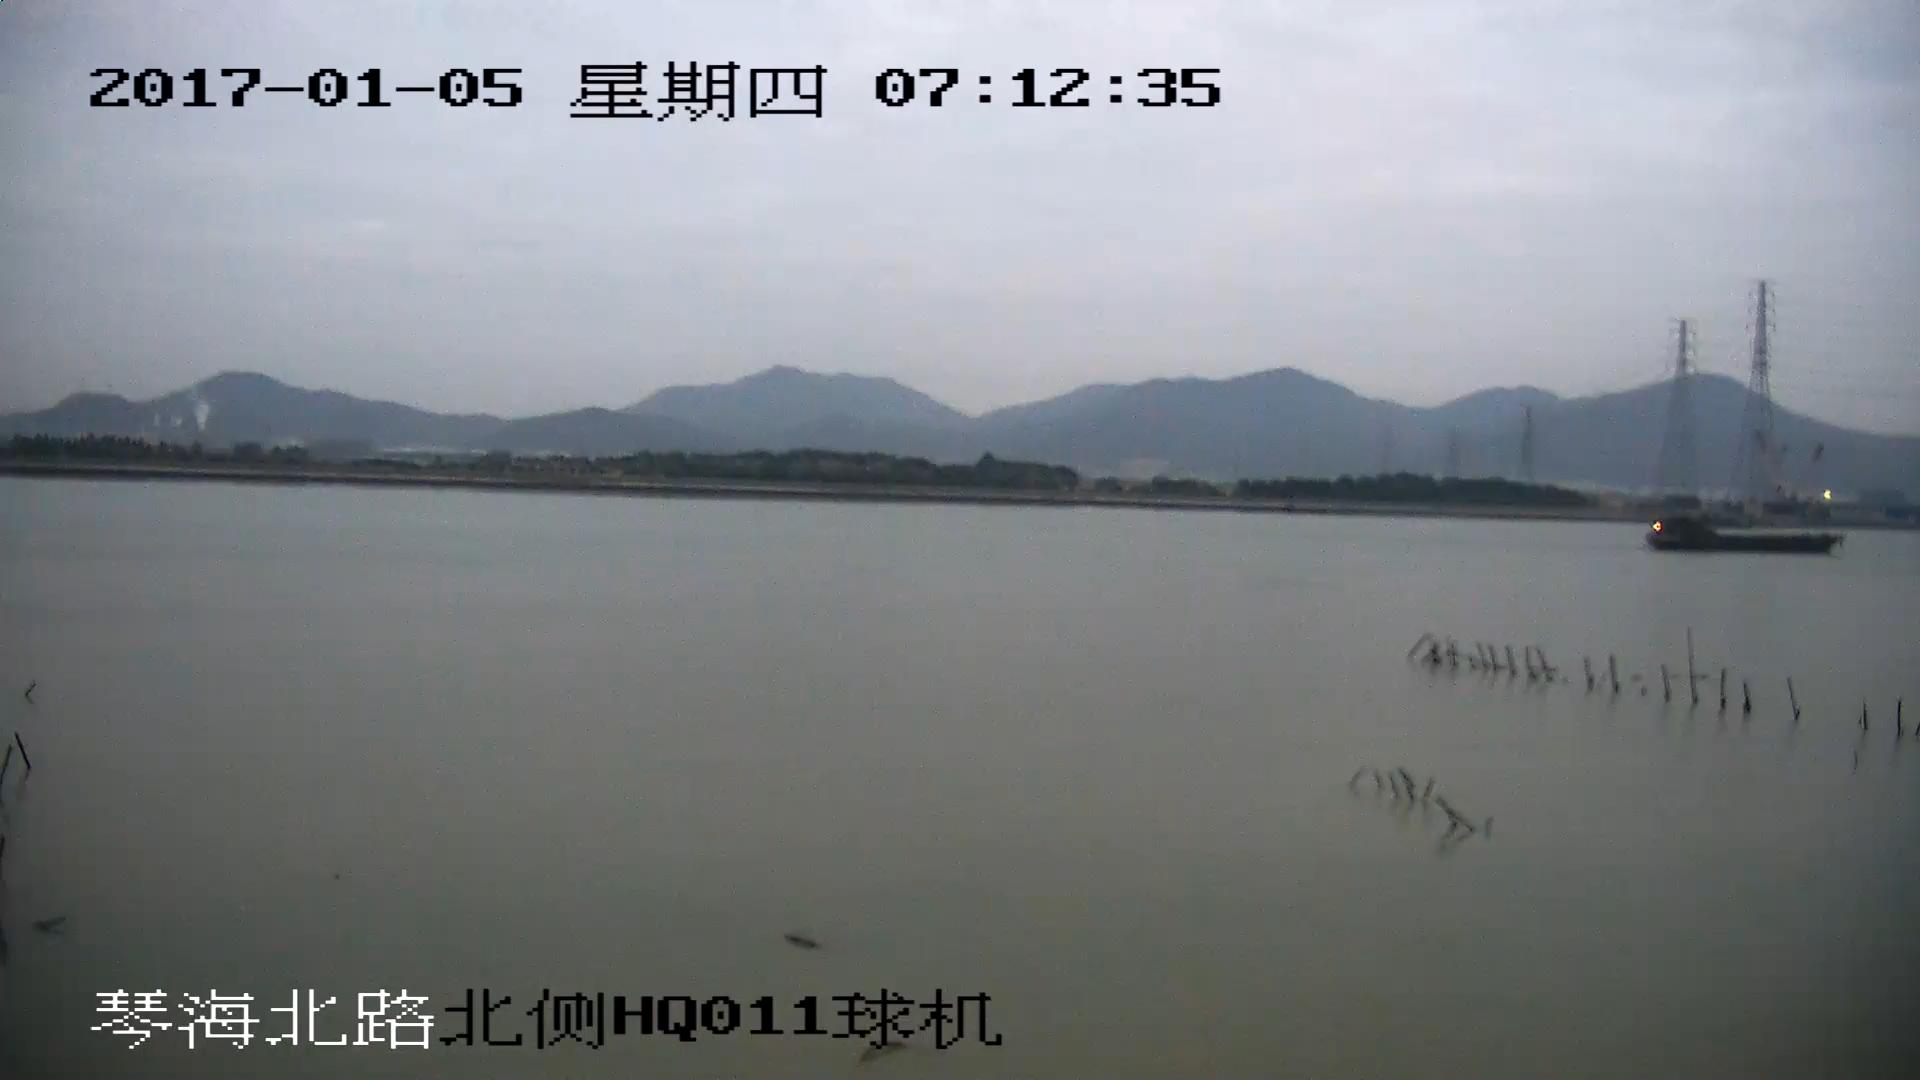bulk cargo carrier: (1641, 520, 1844, 557)
